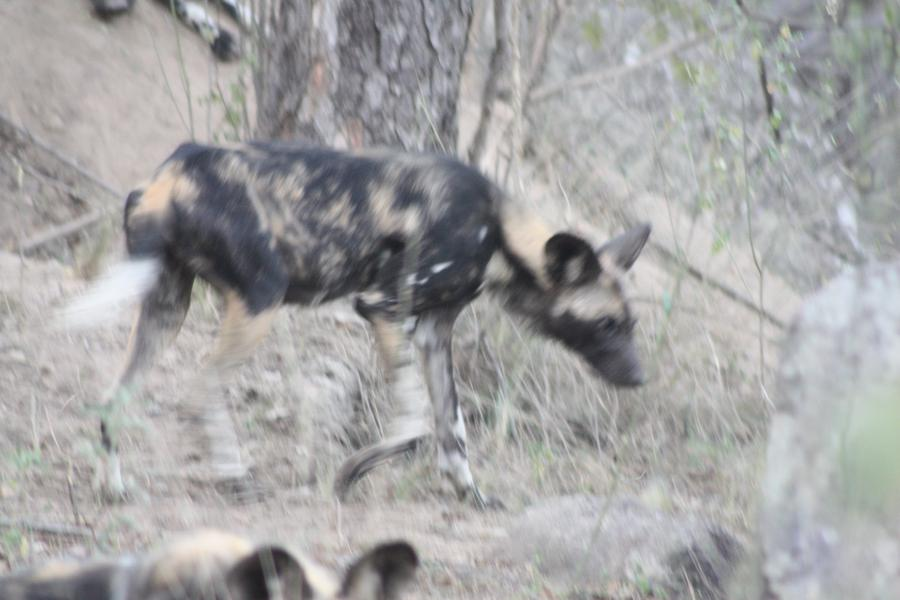wilddog: (142, 127, 585, 406)
